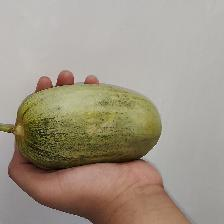gua: (6, 86, 165, 162)
